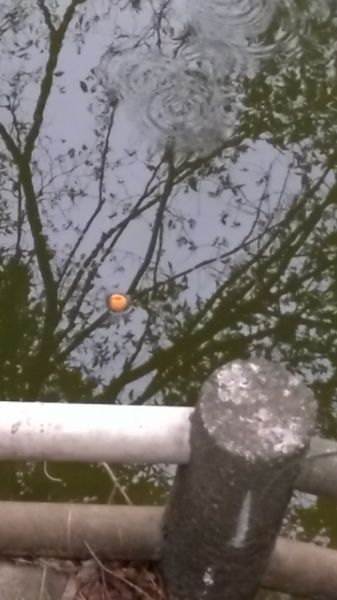eggs: (106, 289, 132, 314)
